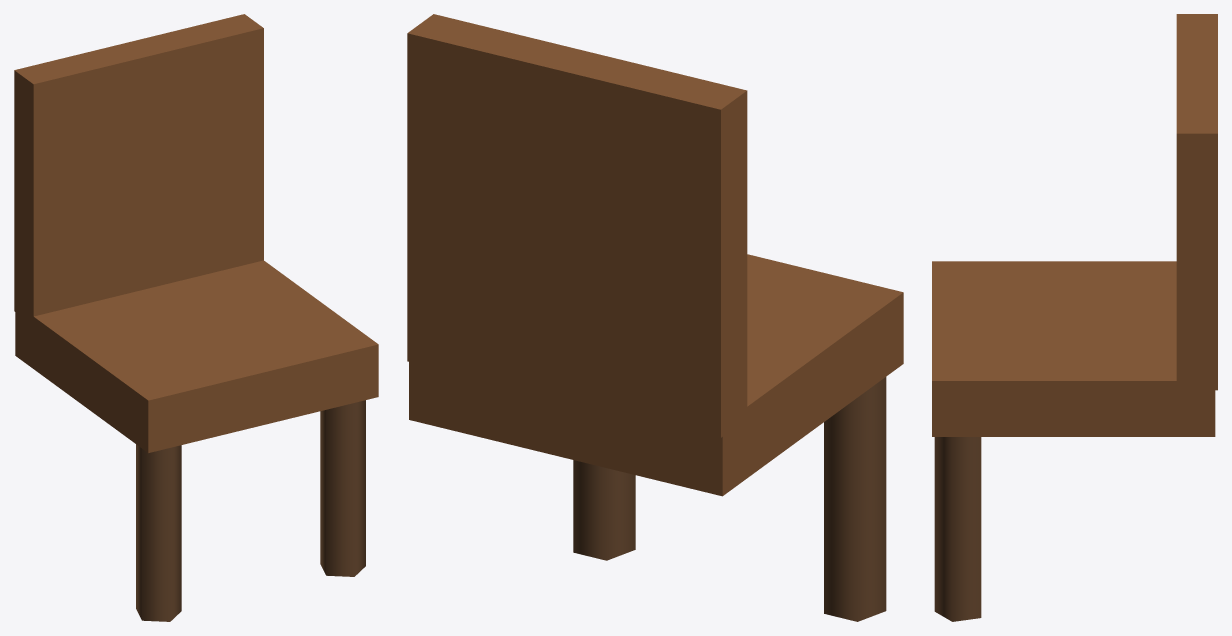
File: chair.glb
The picture shows the model from 3 angles, left to right: view 1: azimuth 30°, elevation 25°; view 2: azimuth 150°, elevation 25°; view 3: azimuth 270°, elevation 25°; orthographic projection. The views are drawn at different scales.
Parts seen in each view (by area): view 1: chair; view 2: chair; view 3: chair.
Part boxes in pixels (<box>): chair: <box>14,14,378,621</box>; chair: <box>407,14,903,621</box>; chair: <box>932,14,1217,621</box>.
Bounding box in the file's own units: 0.55 × 1.05 × 0.555.
